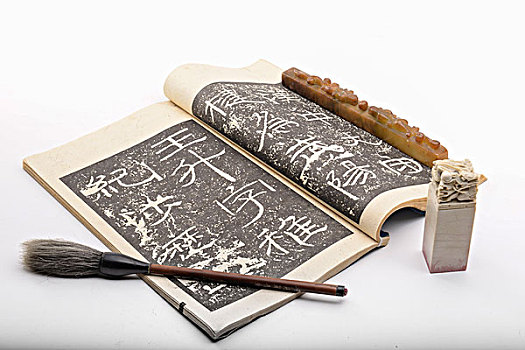book: (25, 58, 465, 346)
